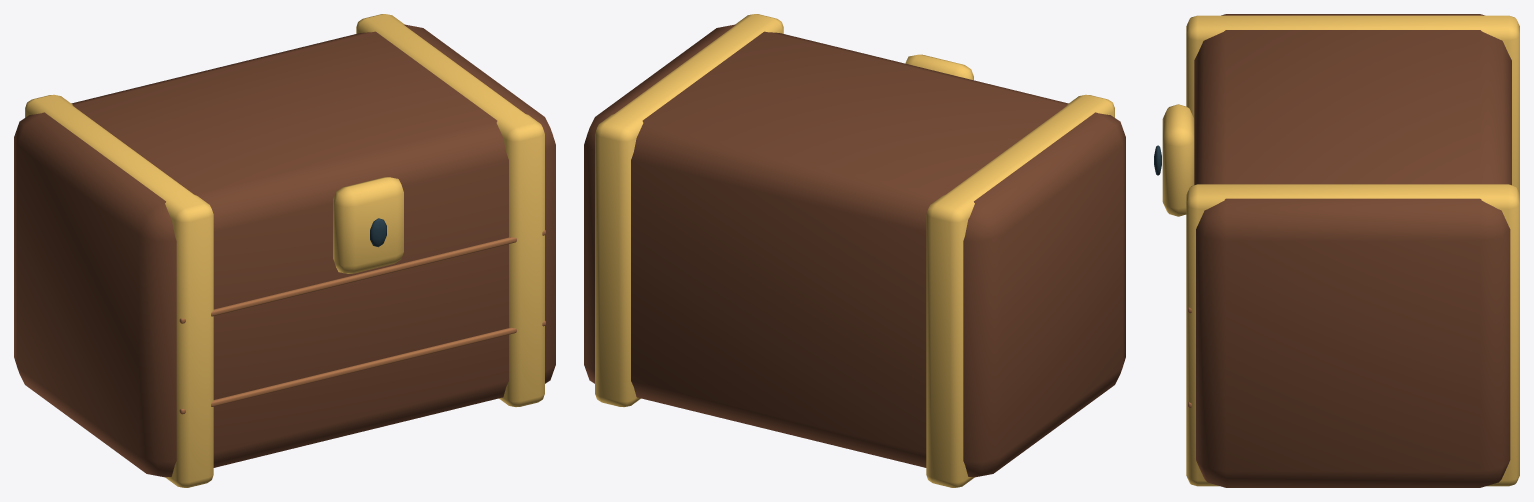
The model's file is chest_base.glb.
The picture shows the model from 3 angles, left to right: view 1: azimuth 30°, elevation 25°; view 2: azimuth 150°, elevation 25°; view 3: azimuth 270°, elevation 25°; orthographic projection. The views are drawn at different scales.
Visible parts, largest first — view 1: chest_base_mesh; view 2: chest_base_mesh; view 3: chest_base_mesh.
Part boxes in pixels (<box>): chest_base_mesh: <box>14,14,555,487</box>; chest_base_mesh: <box>584,14,1125,487</box>; chest_base_mesh: <box>1154,14,1519,487</box>.
Size of the model in its own units: 1.1 by 0.71 by 0.8061.
